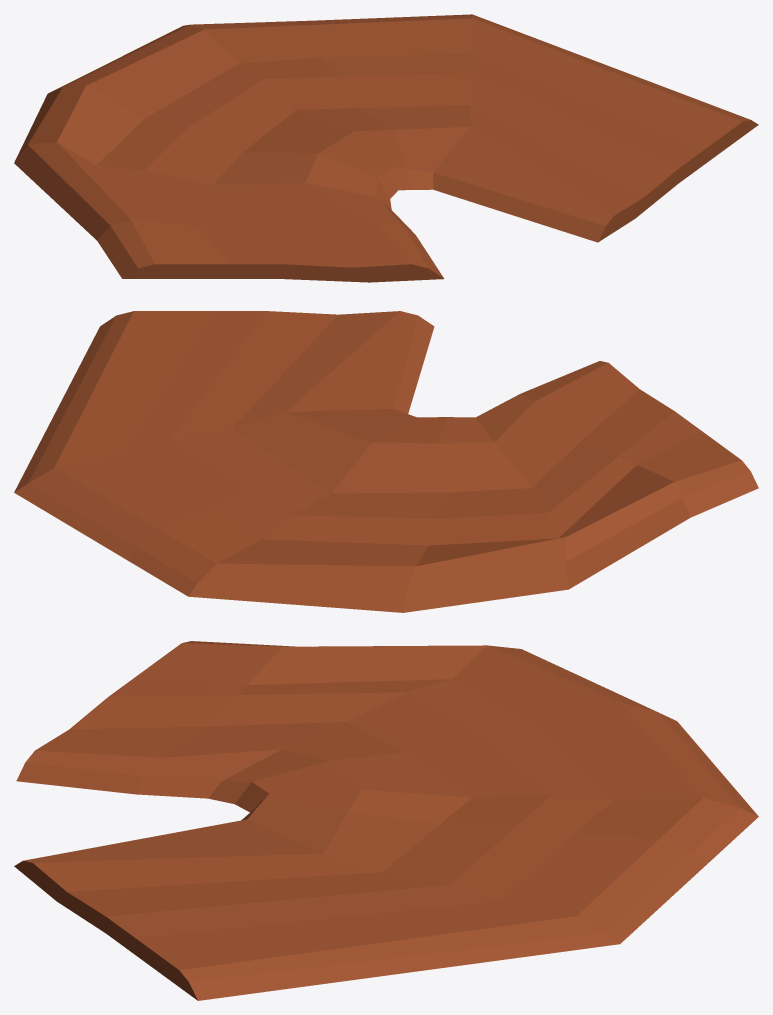
Rendered from street3_01_1.fbx.
The picture shows the model from 3 angles, top to bottom: view 1: azimuth 30°, elevation 25°; view 2: azimuth 150°, elevation 25°; view 3: azimuth 270°, elevation 25°; orthographic projection. The views are drawn at different scales.
Visible parts, largest first — view 1: redRoad01.001; view 2: redRoad01.001; view 3: redRoad01.001.
Boxes of the visible parts, left/top/right/bottom form: redRoad01.001: left=14, top=14, right=758, bottom=282; redRoad01.001: left=14, top=311, right=758, bottom=612; redRoad01.001: left=14, top=641, right=758, bottom=1000.
Bounding box in the file's own units: 79.82 × 4.05 × 70.9.
